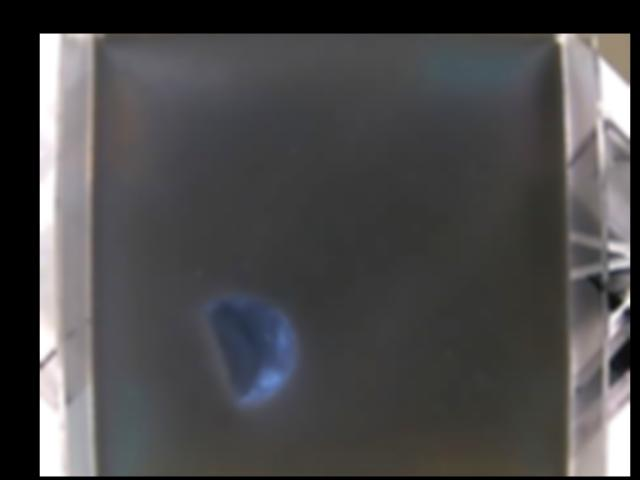Mooli: (207, 295, 297, 406)
